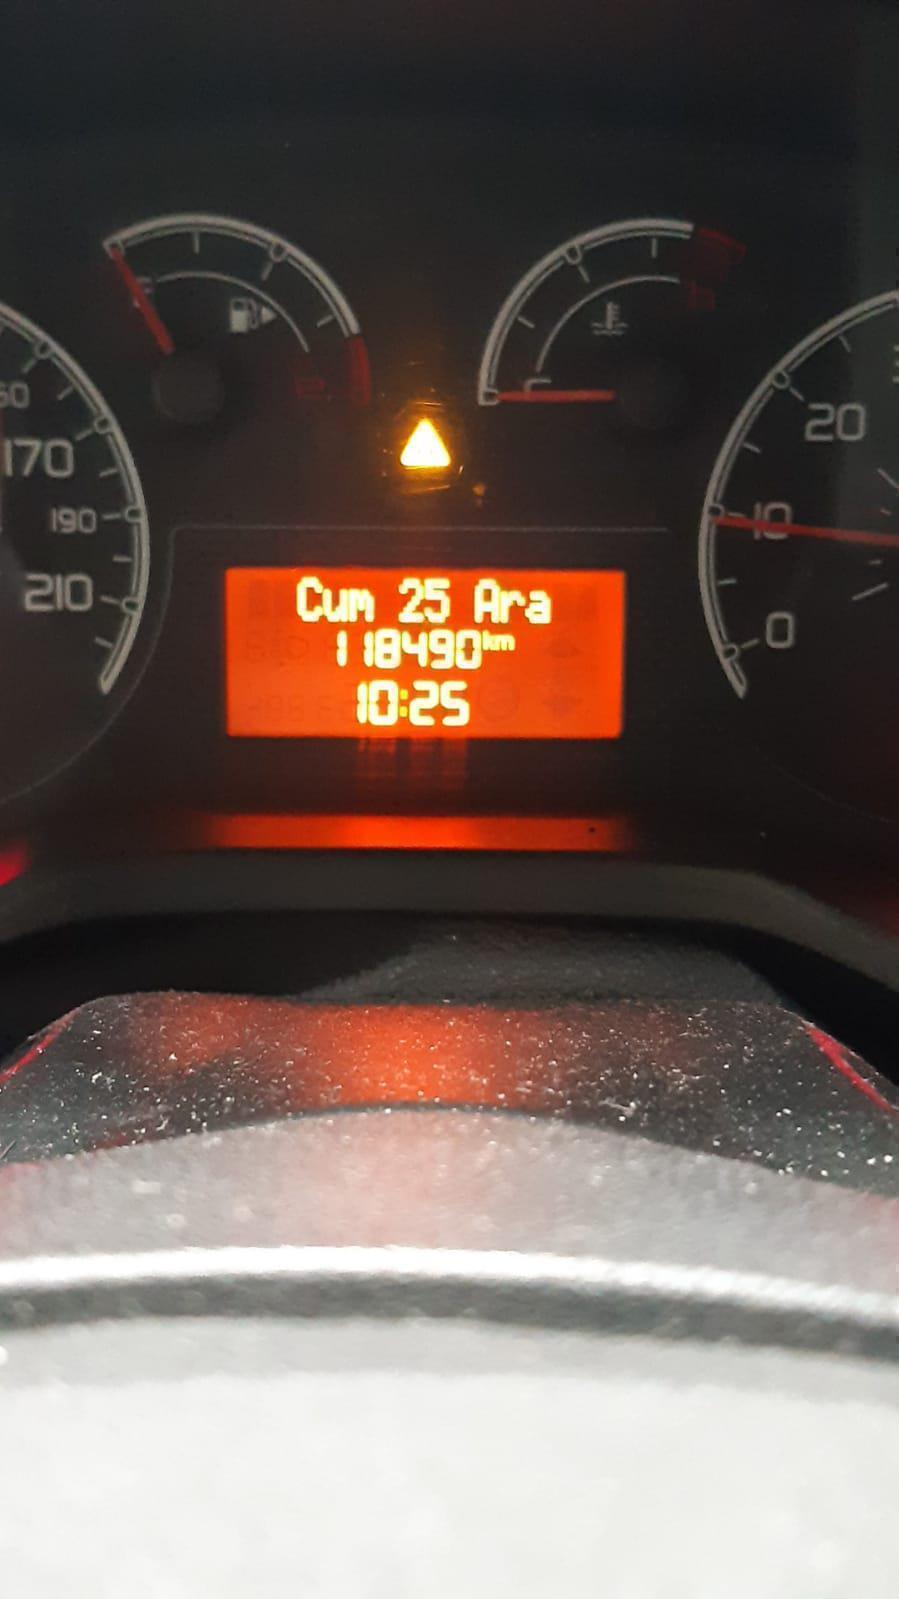0: (368, 677, 398, 728), (456, 627, 482, 671)
1: (353, 677, 370, 726), (333, 629, 350, 669), (359, 630, 372, 669)
2: (411, 679, 439, 730), (396, 574, 425, 625)
4: (400, 628, 429, 670)
5: (438, 678, 470, 729), (424, 573, 451, 625)
8: (372, 627, 401, 670)
9: (430, 625, 454, 671)
X: (470, 577, 503, 625), (294, 573, 324, 622), (347, 584, 377, 623), (323, 584, 349, 623), (528, 588, 554, 625), (501, 588, 525, 625), (496, 631, 518, 652), (398, 686, 411, 722), (481, 628, 497, 652)
odometer: (220, 560, 630, 745)
